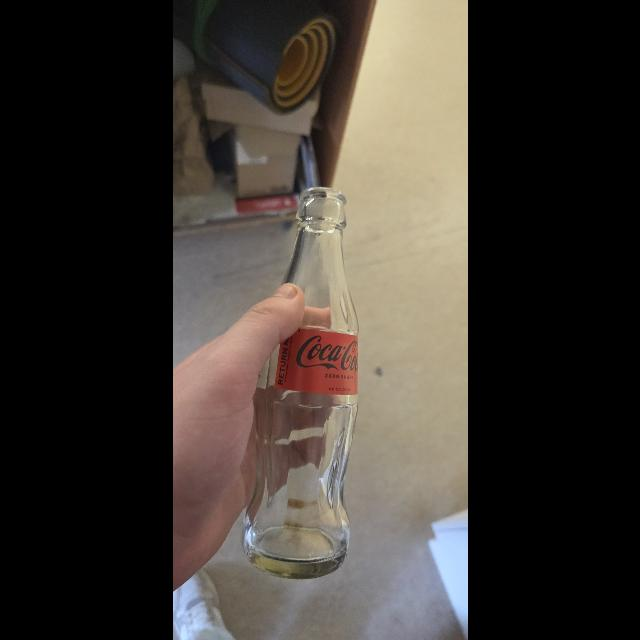Glass: (239, 188, 357, 584)
